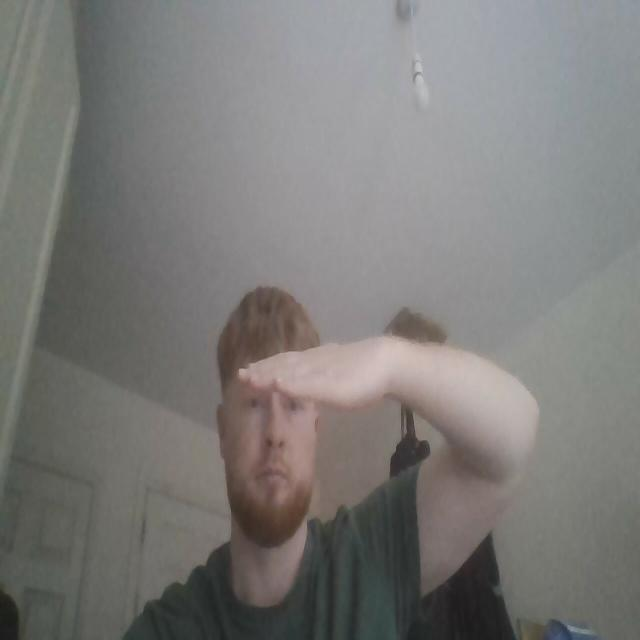papper: (236, 329, 394, 411)
